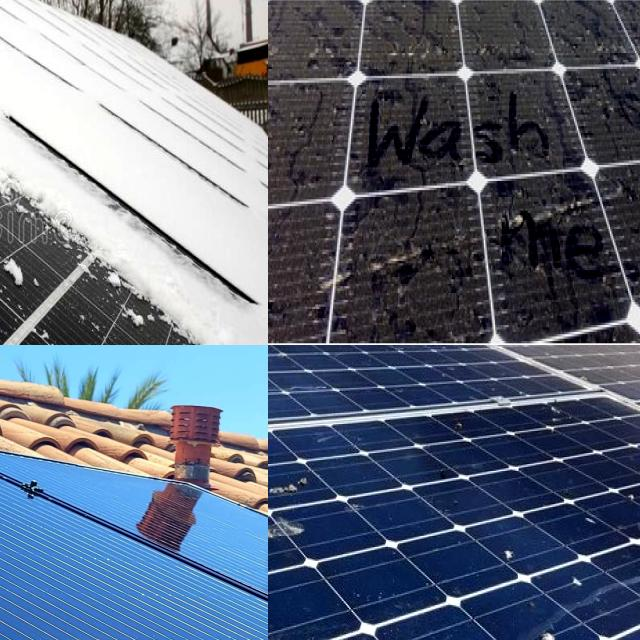bird: (438, 404, 478, 500), (511, 602, 587, 640), (540, 394, 582, 441), (556, 557, 604, 597), (496, 534, 540, 574), (268, 467, 322, 499), (615, 478, 640, 545), (268, 518, 325, 546)
crack: (0, 491, 93, 590), (94, 567, 213, 640), (174, 500, 268, 578), (0, 481, 64, 570), (0, 553, 63, 613), (0, 568, 51, 640), (0, 454, 29, 509)
dust: (344, 194, 488, 344), (362, 86, 564, 172), (498, 188, 604, 328), (463, 0, 630, 68), (289, 0, 452, 69), (312, 0, 467, 61), (497, 0, 640, 56), (268, 87, 341, 196), (268, 206, 327, 336), (573, 78, 640, 156), (618, 183, 640, 325)
panel: (156, 110, 264, 247), (5, 91, 136, 202), (105, 220, 200, 334), (0, 0, 65, 152), (0, 0, 115, 77), (0, 113, 71, 211), (0, 0, 51, 133), (0, 222, 91, 295), (213, 263, 268, 345), (0, 0, 50, 79), (127, 48, 173, 98), (0, 0, 56, 41), (0, 0, 35, 26)
